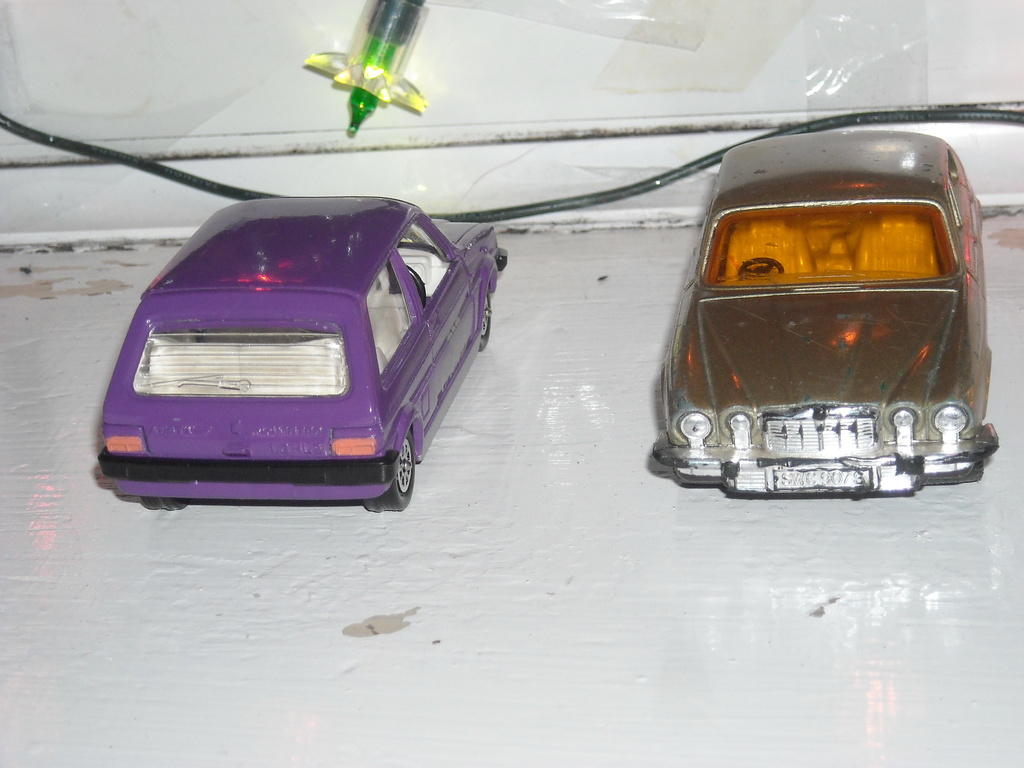Car: (103, 191, 519, 521), (654, 126, 995, 497)
